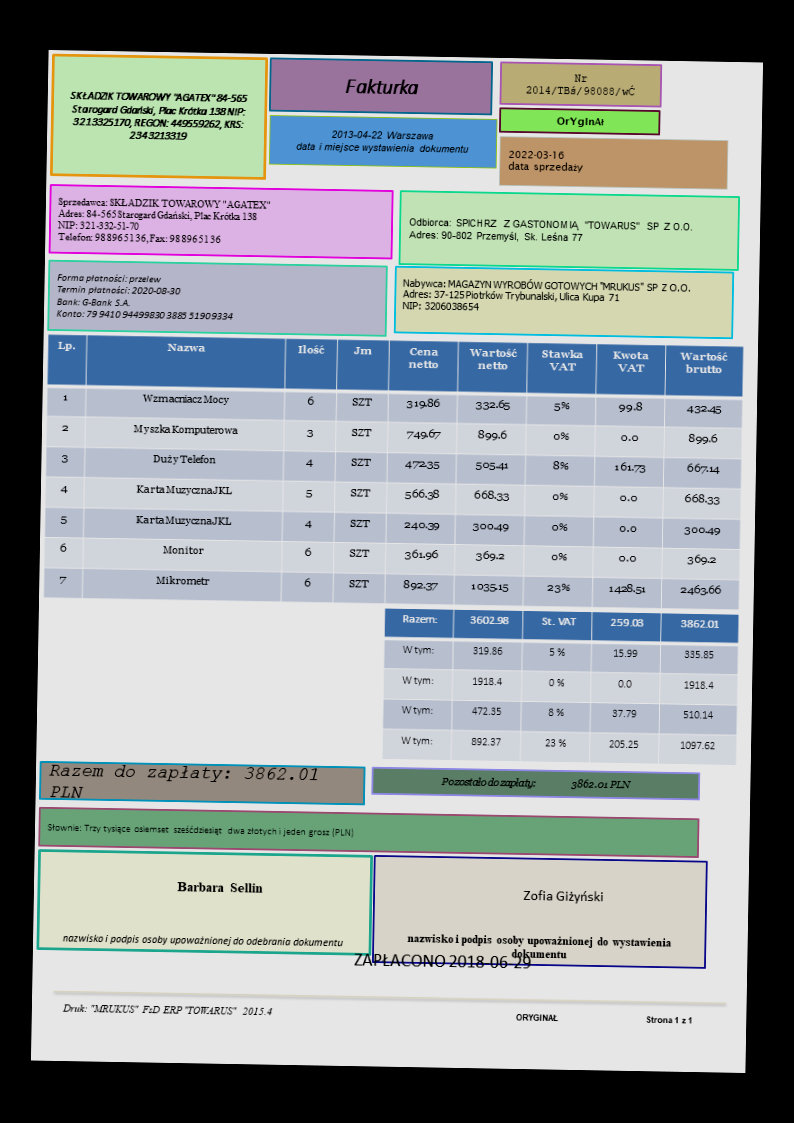Table: (42, 333, 744, 610), (381, 607, 739, 765)
TextBox: (400, 276, 690, 317), (54, 194, 271, 247), (47, 763, 319, 804), (66, 87, 249, 145), (54, 270, 236, 324), (407, 215, 696, 247), (404, 932, 673, 962), (60, 931, 344, 951), (46, 821, 355, 839), (293, 126, 471, 156), (61, 1001, 275, 1018), (351, 952, 532, 972), (438, 774, 634, 792), (523, 70, 638, 98), (514, 1010, 694, 1026), (505, 147, 586, 175), (342, 77, 420, 97), (521, 888, 606, 905), (175, 879, 263, 895), (554, 114, 607, 129)
